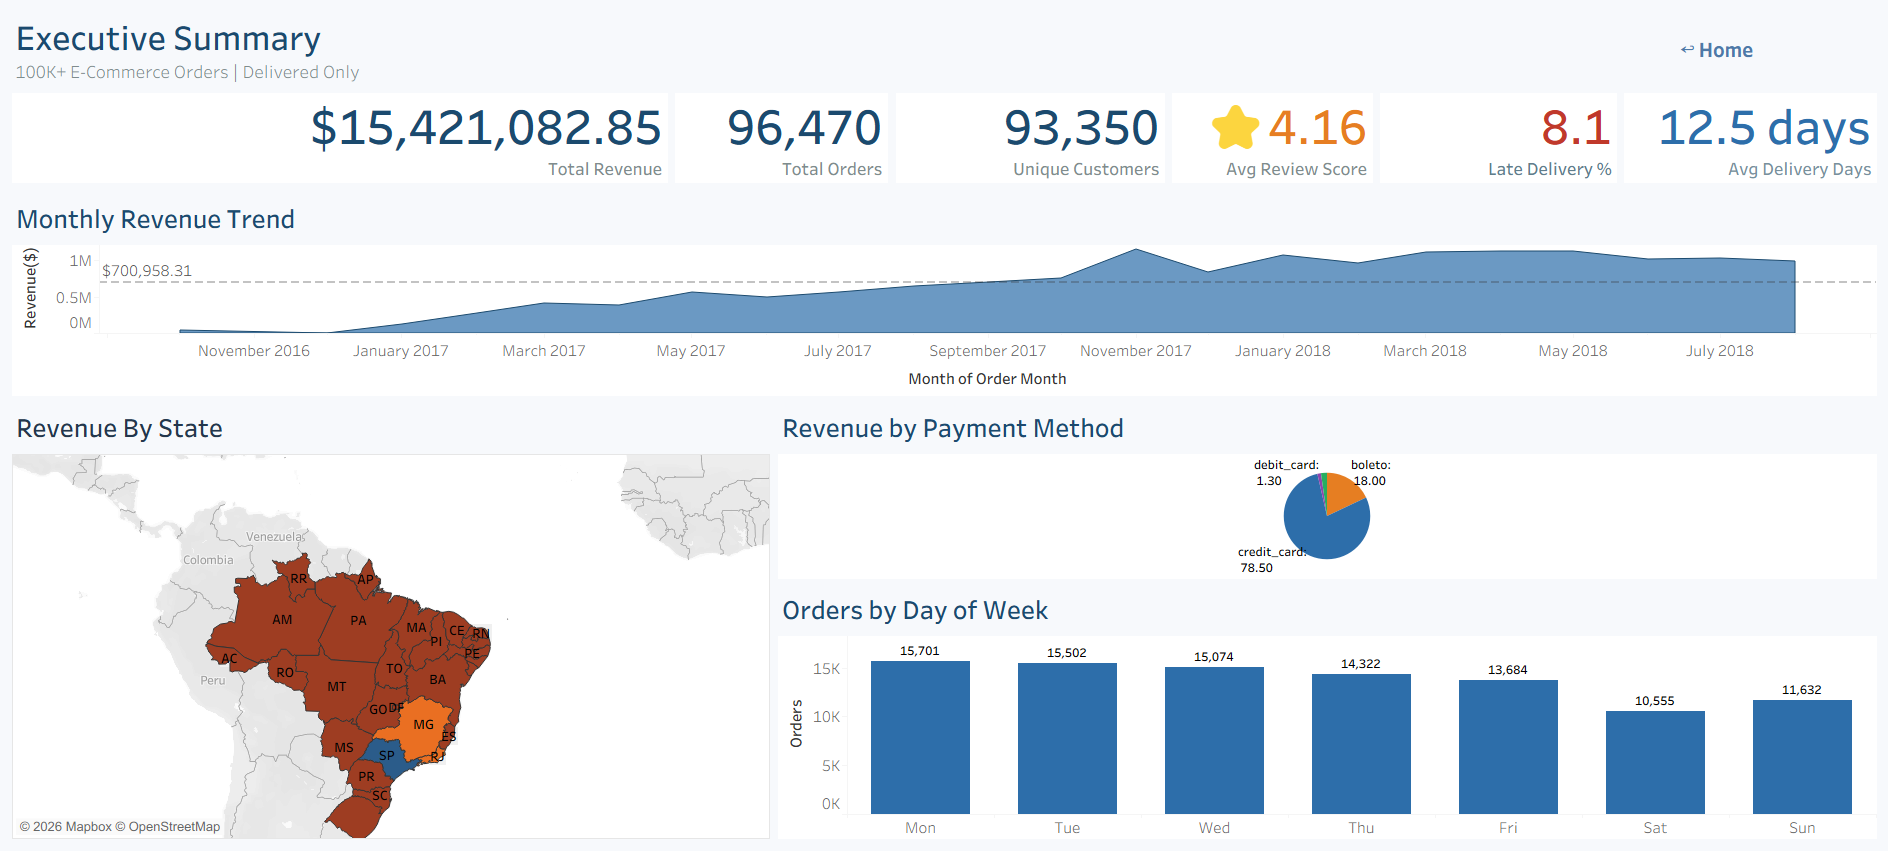

What the dashboard file says about the page in this screenshot:
{"tool":"tableau","page":{"name":"Executive Summary","canvas":[1000,1000],"units":"permille","ordinal":2},"visuals":[{"type":"text","box":[4.2,7.7,819,95.4]},{"type":"dashboard-object","box":[823.1,7.7,172.7,95.4]},{"type":"worksheet","title":"KPI - Revenue","mark":"Automatic","box":[4.2,103.1,361.9,120.3]},{"type":"worksheet","title":"KPI - Orders","mark":"Automatic","box":[366.1,103.1,115.1,120.3]},{"type":"worksheet","title":"KPI - Unique Customers","mark":"Automatic","box":[481.2,103.1,143.8,120.3]},{"type":"worksheet","title":"KPI - Review","mark":"Automatic","box":[625,103.1,108.3,120.3]},{"type":"worksheet","title":"KPI - Late%","mark":"Automatic","box":[733.3,103.1,127.1,120.3]},{"type":"worksheet","title":"KPI - Avg Delivery","mark":"Automatic","box":[860.4,103.1,135.4,120.3]},{"type":"worksheet","title":"Monthly Revenue","mark":"Area","rows":["REVENUE"],"cols":["ORDER_MONTH"],"box":[4.2,223.4,991.7,246.4]},{"type":"worksheet","title":"Revenue Map","mark":"Multipolygon","box":[4.2,469.8,399,522.5]},{"type":"worksheet","title":"Payment Type","mark":"Pie","box":[403.1,469.8,592.6,174.5]},{"type":"worksheet","title":"Orders by Day","mark":"Automatic","rows":["ORDERS"],"cols":["DAY_OF_WEEK"],"box":[403.1,644.3,592.6,348]}]}

Visuals, with their boxes on the dashboard's canvas, which has no fixed pixel size, in thousandths of its width and height (x1, y1, x2, y2). These are canvas units, not pixel positions in the 1888x851 screenshot, which may show the page scaled, cropped or inside an application window:
text: 4/8/823/103
dashboard-object: 823/8/996/103
"KPI - Revenue" worksheet: 4/103/366/223
"KPI - Orders" worksheet: 366/103/481/223
"KPI - Unique Customers" worksheet: 481/103/625/223
"KPI - Review" worksheet: 625/103/733/223
"KPI - Late%" worksheet: 733/103/860/223
"KPI - Avg Delivery" worksheet: 860/103/996/223
"Monthly Revenue" worksheet (Area marks): 4/223/996/470
"Revenue Map" worksheet (Multipolygon marks): 4/470/403/992
"Payment Type" worksheet (Pie marks): 403/470/996/644
"Orders by Day" worksheet: 403/644/996/992
